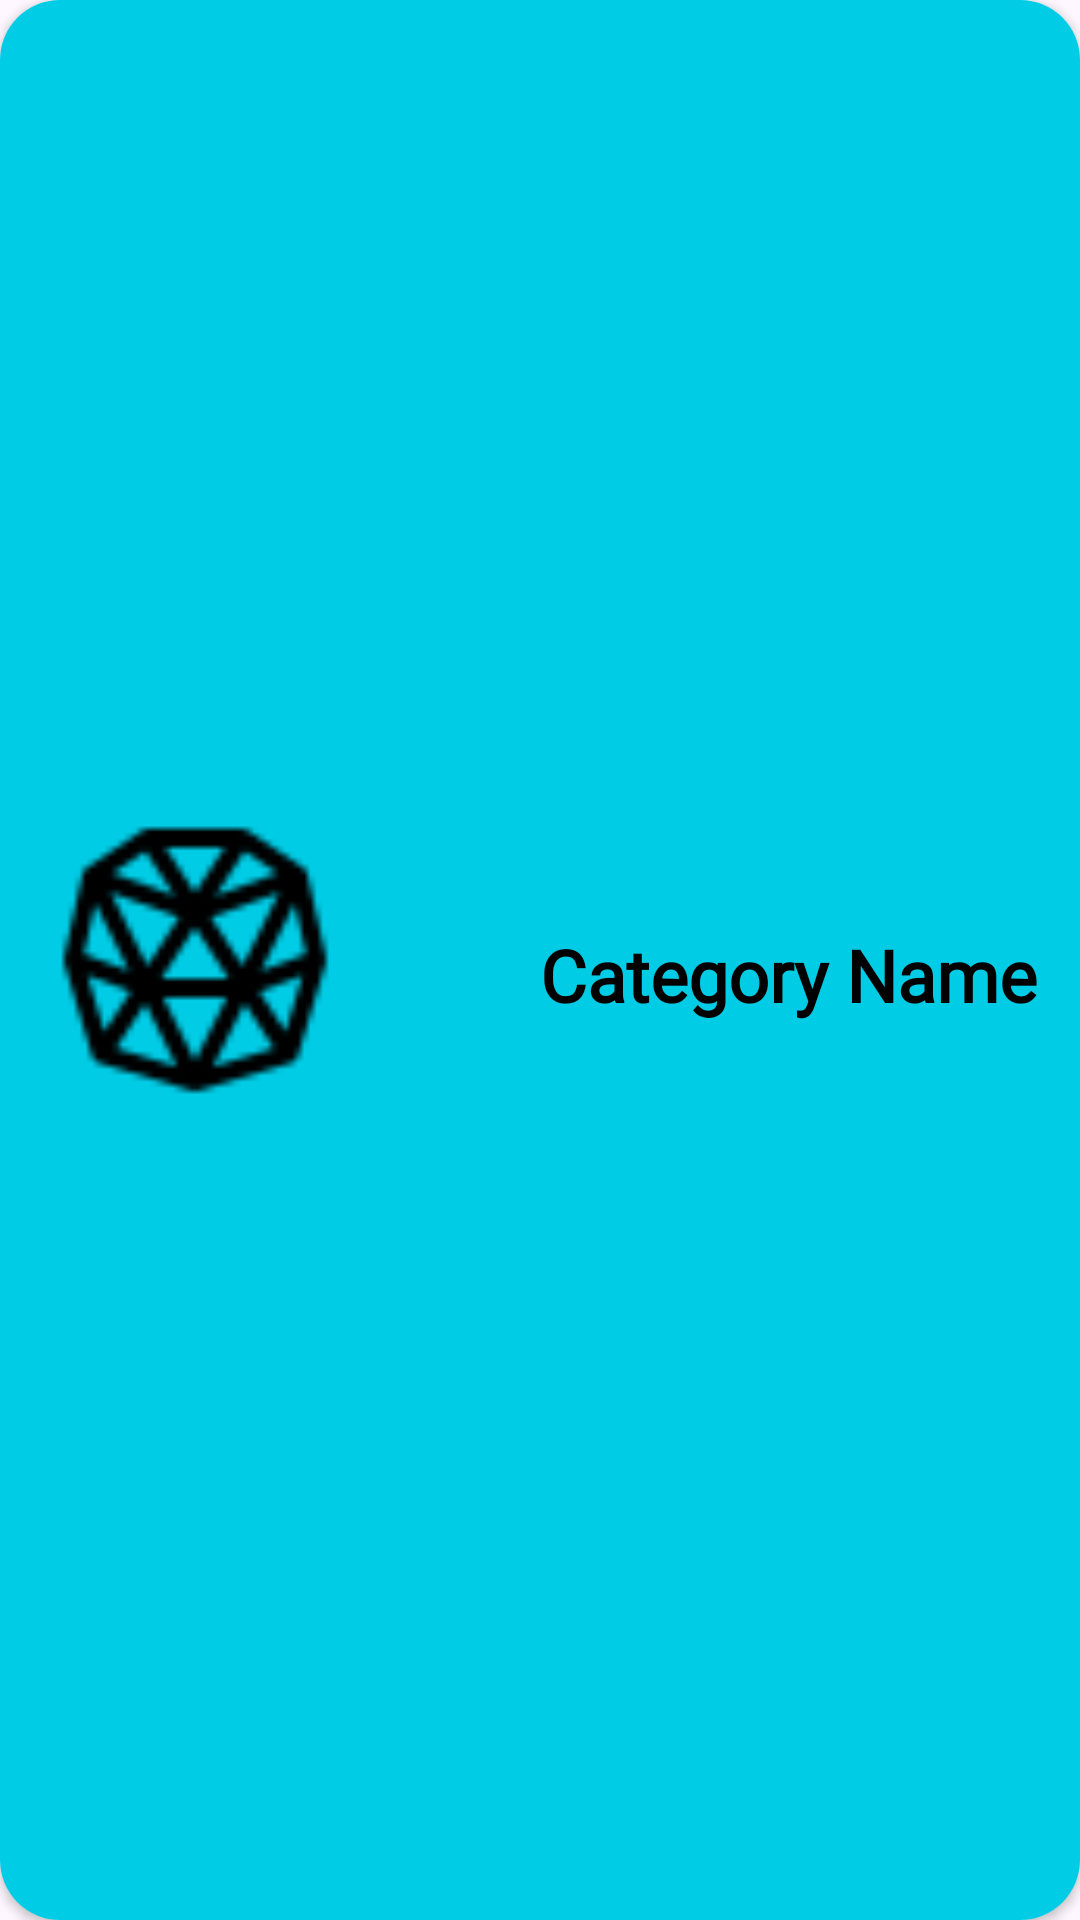

Where icons sit on this 1080 × 1920 app screen, as (x1, y1, x2, y2):
modal 3d: (61, 826, 329, 1094)
